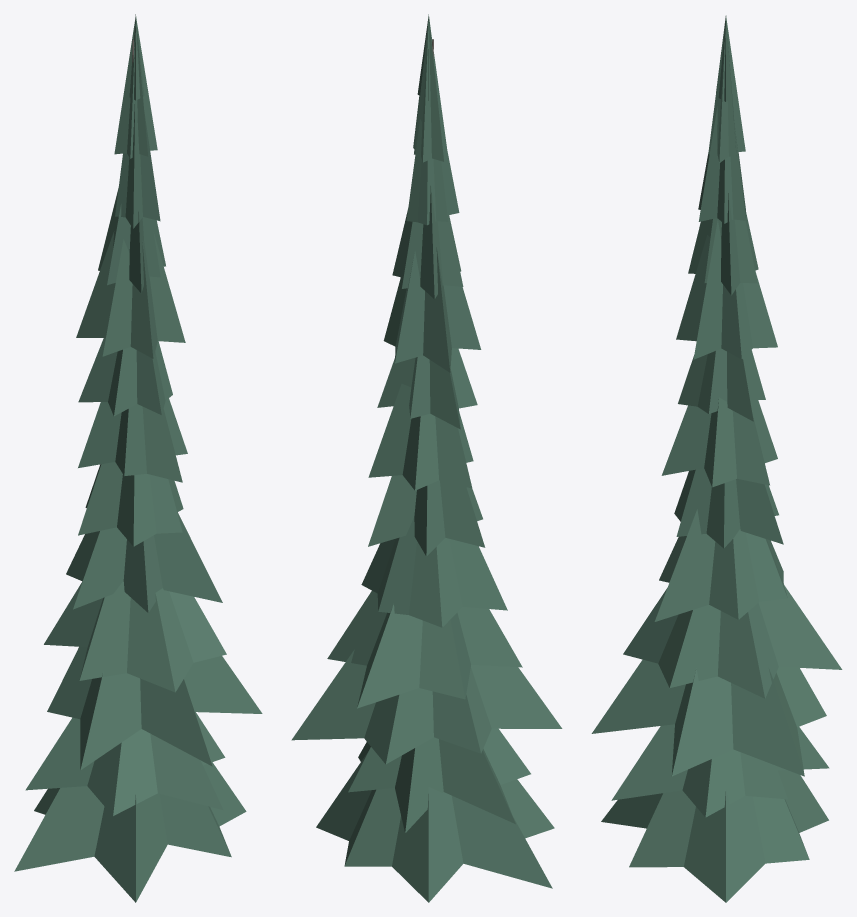
Rendered from norway_spruce_mature.glb.
The picture shows the model from 3 angles, left to right: view 1: azimuth 30°, elevation 25°; view 2: azimuth 150°, elevation 25°; view 3: azimuth 270°, elevation 25°; orthographic projection.
Parts seen in each view (by area): view 1: spruce-mature; view 2: spruce-mature; view 3: spruce-mature.
Part boxes in pixels (x1,y1,x2,y2): spruce-mature: (14, 14, 262, 902); spruce-mature: (291, 14, 562, 902); spruce-mature: (591, 15, 842, 902).
Size of the model in its own units: 6.04 by 20.6 by 5.58.
